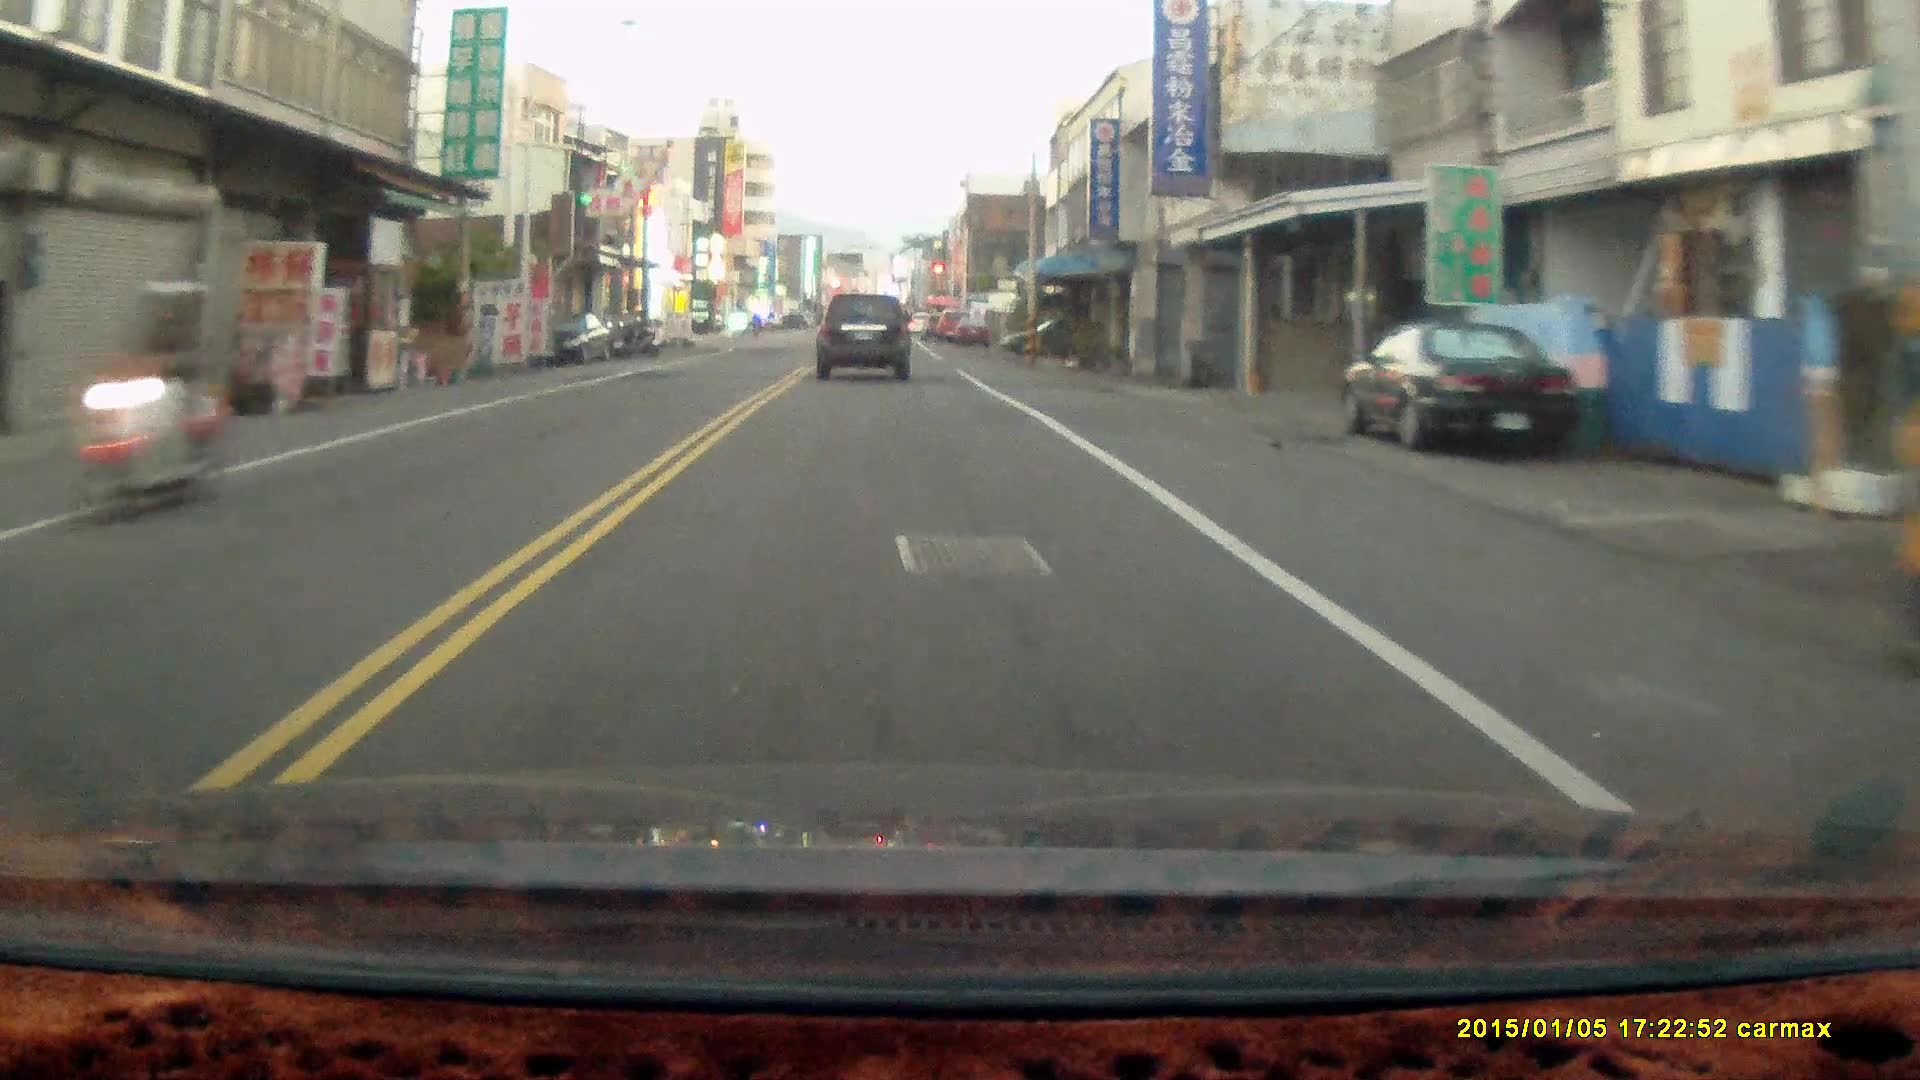rider: (64, 284, 220, 533)
vehicle: (1343, 315, 1587, 458), (815, 290, 913, 381)
